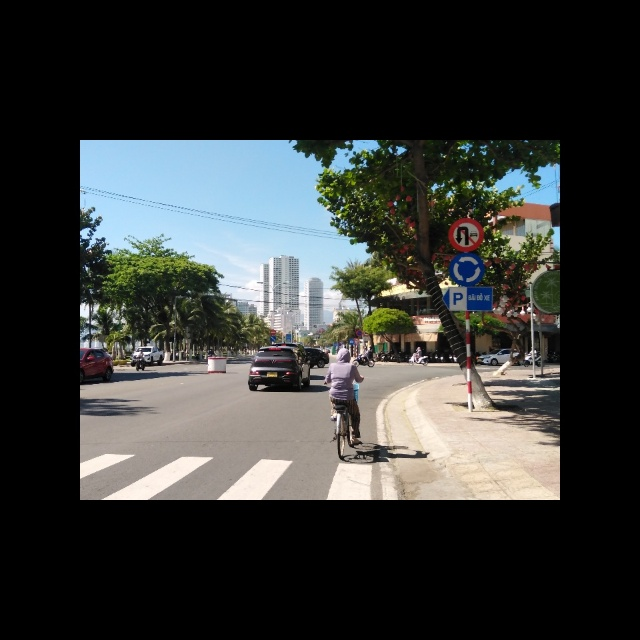Cấm xe ô tô quay đầu: (449, 218, 483, 252)
Nơi giao nhau chạy theo vòng xuyến: (449, 253, 484, 286)
Nơi đỗ xe: (442, 286, 493, 311)
